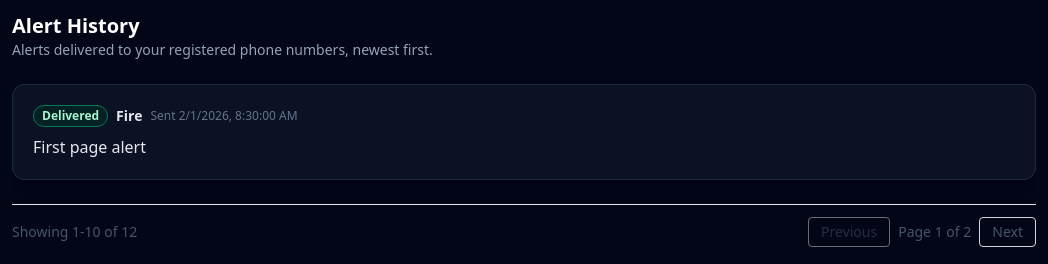
Test: ResidentAlertHistory › pages to the next requested page
The width and height of the screenshot is (1048, 264).
Expected: the text "First page alert" is shown, [33,136,146,158]
Click the button "Next".
click(1008, 232)  # box [979,217,1036,247]
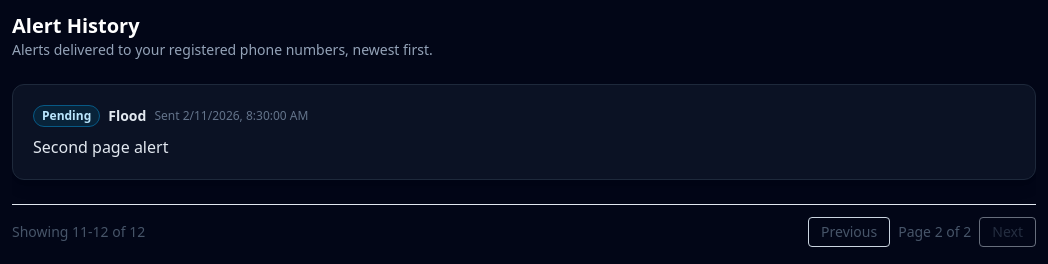
Now the text "Second page alert" is shown, box [33,136,168,158]
